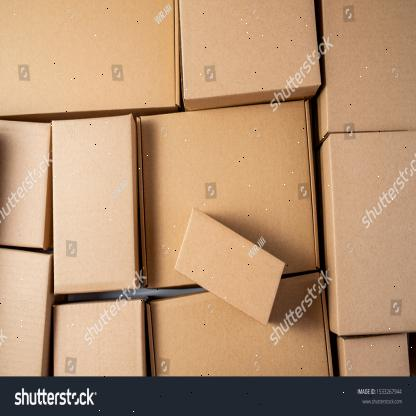box: (0, 0, 177, 116), (149, 272, 332, 376), (328, 130, 416, 337), (52, 112, 135, 294), (181, 0, 320, 104), (174, 208, 286, 322), (323, 0, 416, 133), (52, 298, 144, 376), (0, 247, 52, 377), (0, 120, 50, 248)
